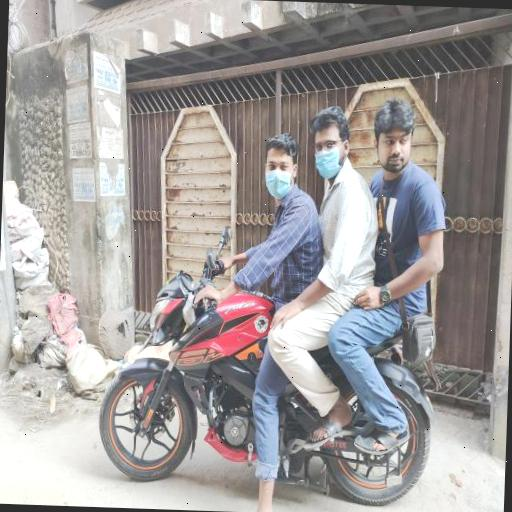no helmet: (233, 118, 321, 230)
triple riding: (98, 85, 487, 512)
